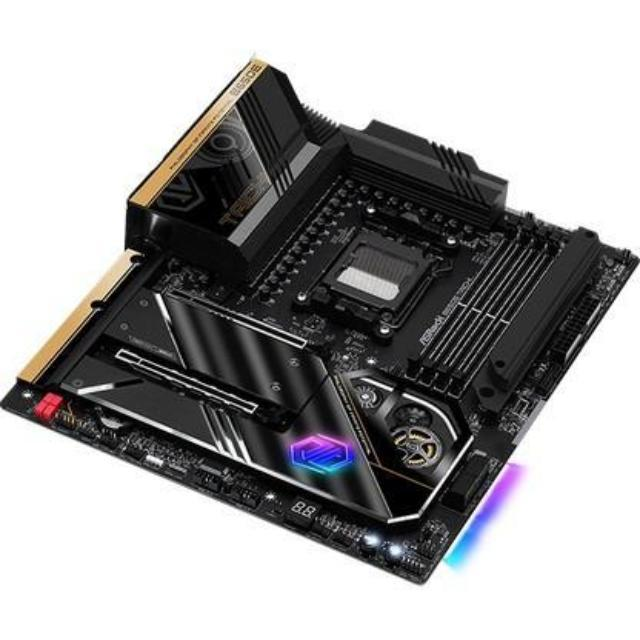Mainboard: (0, 40, 640, 595)
